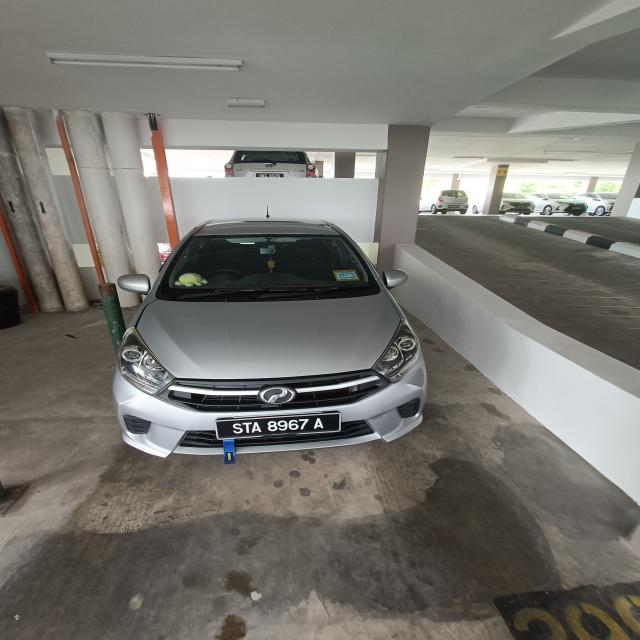PeroduaAxia: (111, 215, 429, 462)
